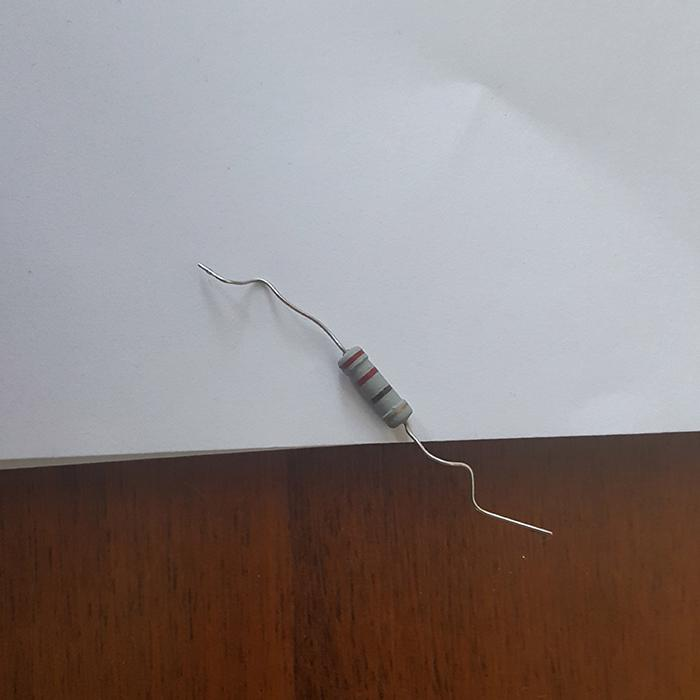resistor: (336, 344, 411, 430)
